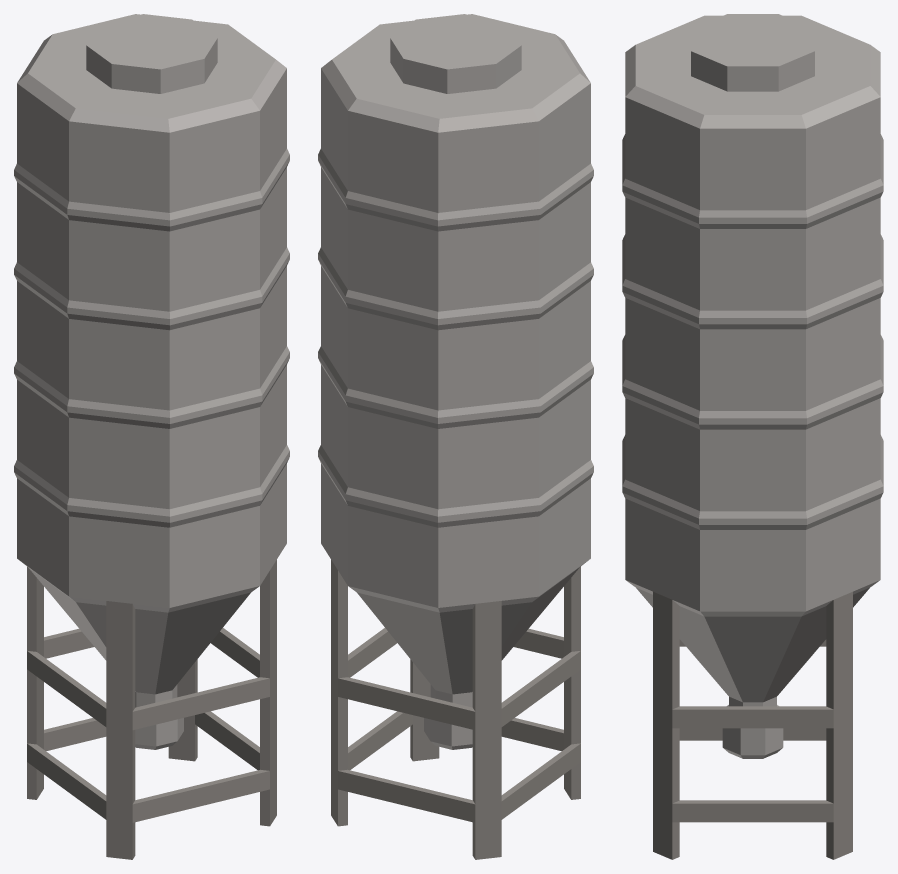
The model's file is Silo_Desert.fbx.
3 views of the same model, side by side, from view 1: azimuth 30°, elevation 25°; view 2: azimuth 150°, elevation 25°; view 3: azimuth 270°, elevation 25° (orthographic).
Parts seen in each view (by area): view 1: Silo_Desert; view 2: Silo_Desert; view 3: Silo_Desert.
Boxes of the visible parts, <box> form: Silo_Desert: <box>14,14,289,859</box>; Silo_Desert: <box>318,14,593,859</box>; Silo_Desert: <box>622,14,883,859</box>.
Bounding box in the file's own units: 2.26 × 7.44 × 2.26.
